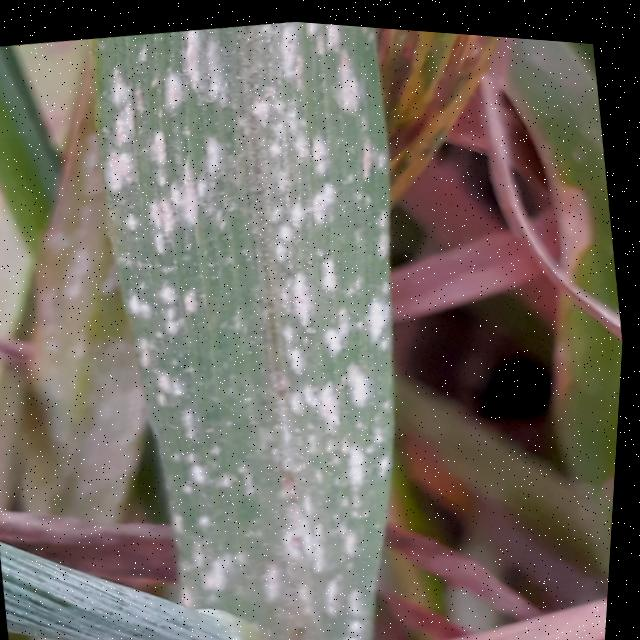powder_mildew: (45, 4, 484, 640), (0, 111, 180, 514)
